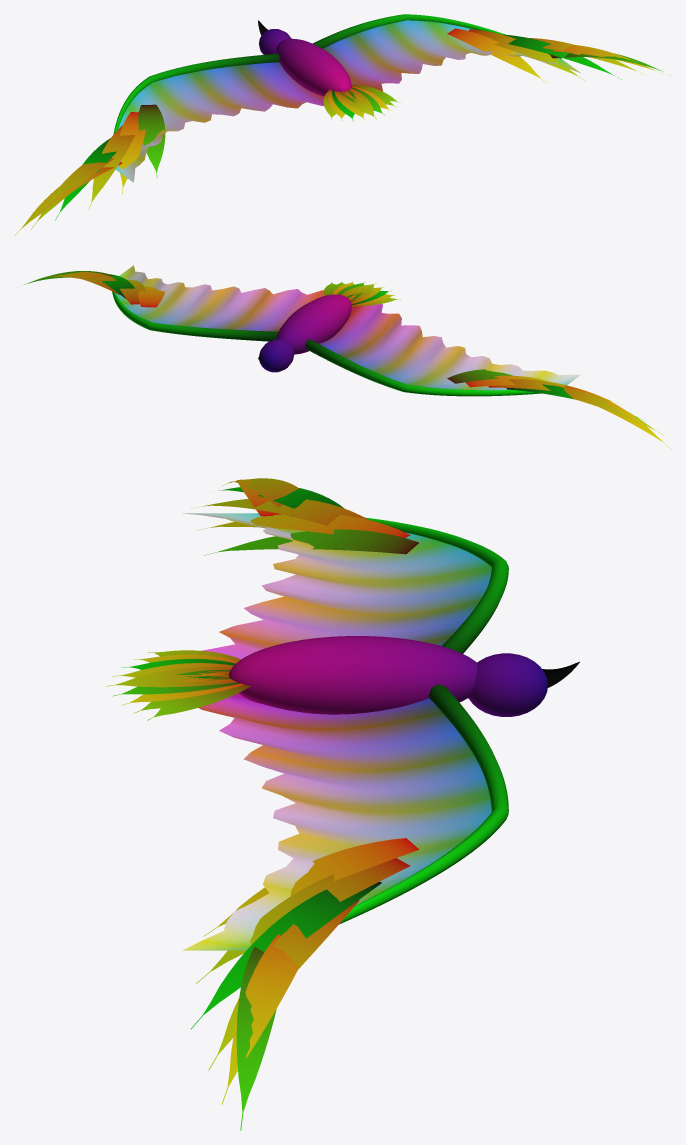
The model's file is eagle.glb.
3 views of the same model, one above another, from view 1: azimuth 30°, elevation 25°; view 2: azimuth 150°, elevation 25°; view 3: azimuth 270°, elevation 25° (orthographic). The views are drawn at different scales.
Visible parts, largest first — view 1: sail, ribbons, rim; view 2: sail, ribbons, rim; view 3: sail, ribbons, rim.
Part boxes in pixels (x1,y1,x2,y2): sail: (115, 20, 580, 182); ribbons: (14, 28, 670, 236); rim: (113, 14, 561, 133); sail: (116, 265, 580, 390); ribbons: (24, 271, 671, 449); rim: (112, 291, 541, 396); sail: (182, 513, 547, 950); ribbons: (106, 478, 418, 1130); rim: (339, 517, 579, 924).
Bounding box in the file's own units: 12.41 × 1.52 × 3.87.
